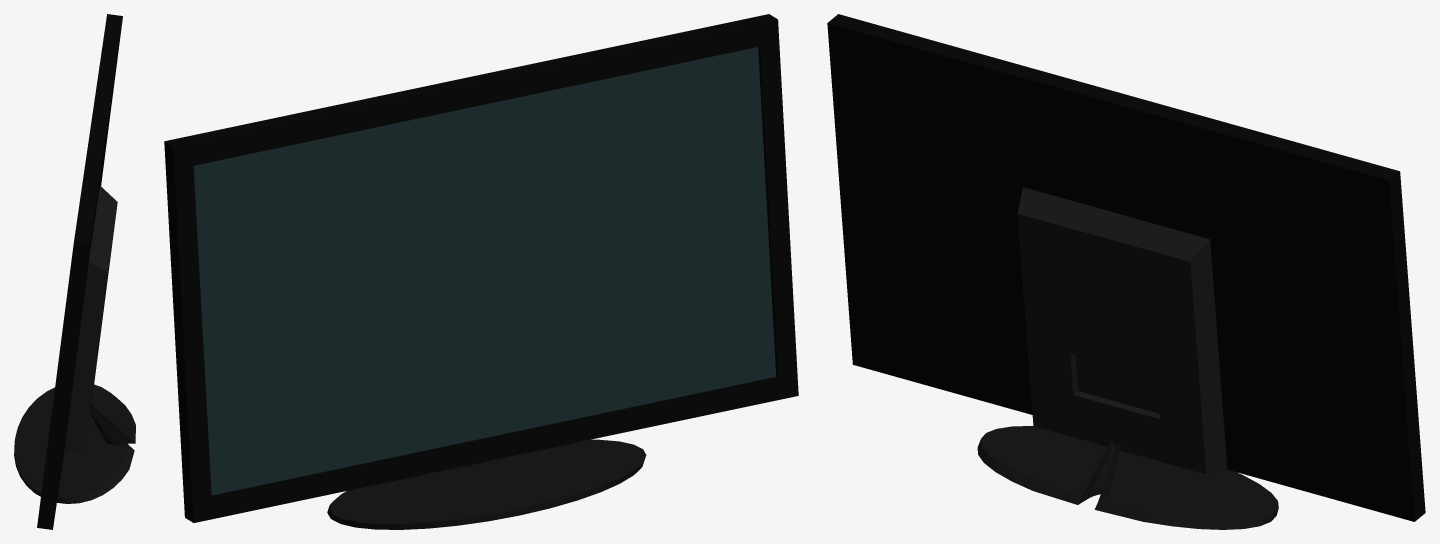
Rendered from Monitor.fbx.
The picture shows the model from 3 angles, left to right: view 1: azimuth 30°, elevation 25°; view 2: azimuth 150°, elevation 25°; view 3: azimuth 270°, elevation 25°; orthographic projection. The views are drawn at different scales.
Visible parts, largest first — view 1: Monitor.012; view 2: Monitor.012; view 3: Monitor.012.
Boxes of the visible parts, x1=… form: Monitor.012: x1=14, y1=14, x2=135, y2=529; Monitor.012: x1=164, y1=14, x2=798, y2=529; Monitor.012: x1=827, y1=14, x2=1425, y2=529.
Bounding box in the file's own units: 40.29 × 41.18 × 56.42.
